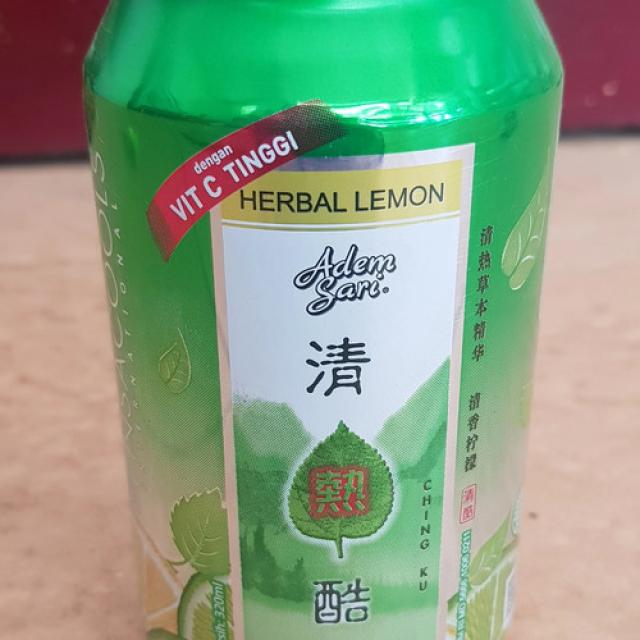ademsarikaleng: (80, 0, 565, 637)
